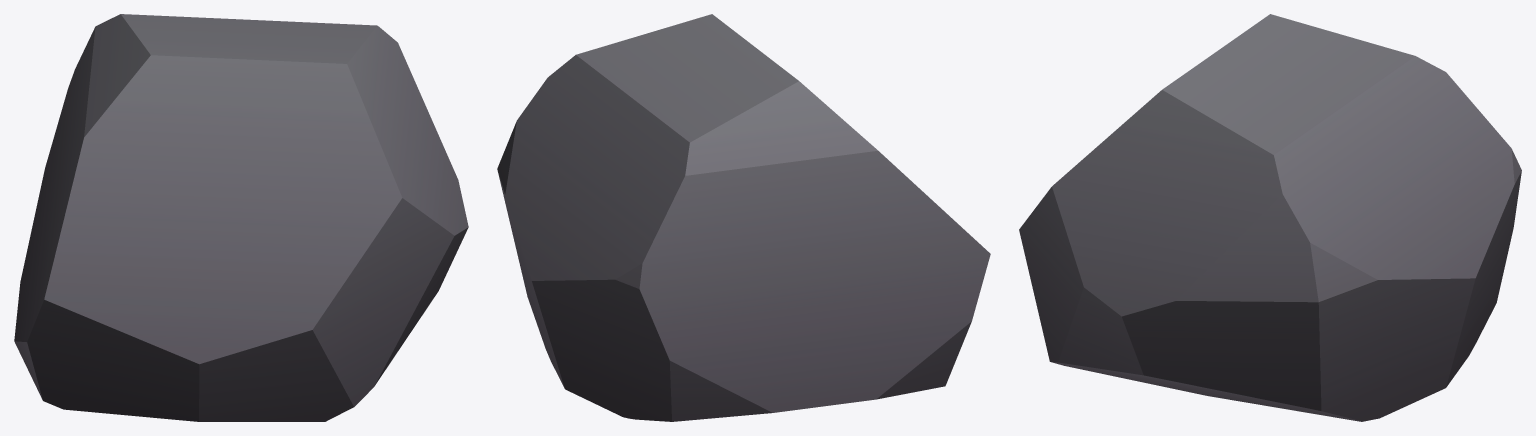
Rendered from Rock_01.fbx.
3 views of the same model, side by side, from view 1: azimuth 30°, elevation 25°; view 2: azimuth 150°, elevation 25°; view 3: azimuth 270°, elevation 25° (orthographic). The views are drawn at different scales.
Parts seen in each view (by area): view 1: Rock_01; view 2: Rock_01; view 3: Rock_01.
Boxes of the visible parts, bbox=[...] form: Rock_01: bbox=[14, 14, 468, 421]; Rock_01: bbox=[497, 14, 990, 421]; Rock_01: bbox=[1019, 14, 1521, 421].
Size of the model in its own units: 111 by 82.59 by 108.
